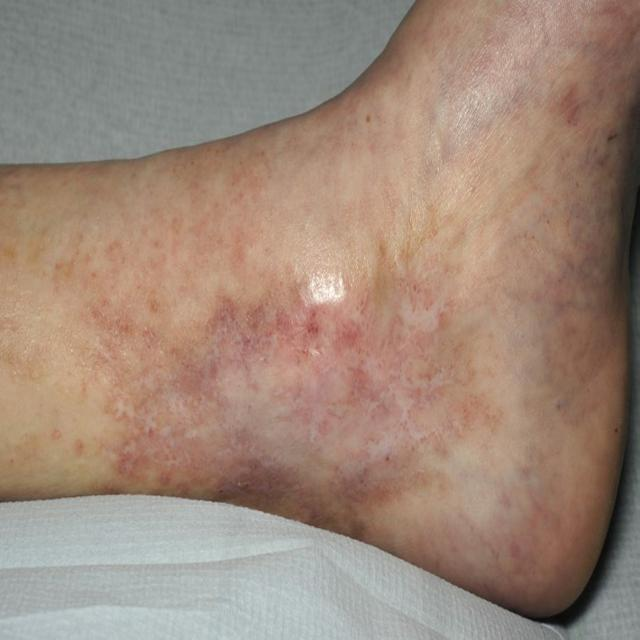wound: (156, 237, 487, 517)
